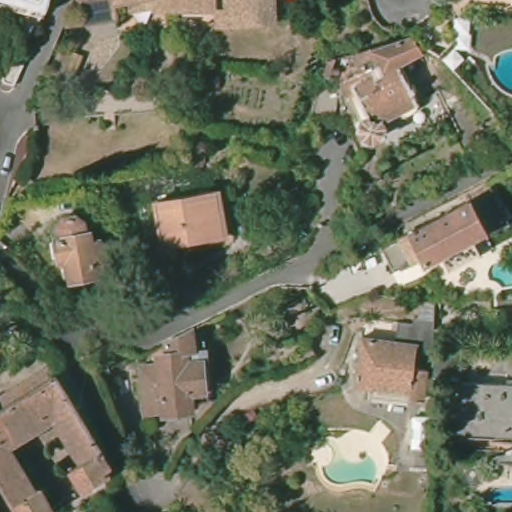pool: (321, 448, 374, 487), (488, 44, 512, 100), (488, 251, 512, 289), (485, 479, 512, 510)
